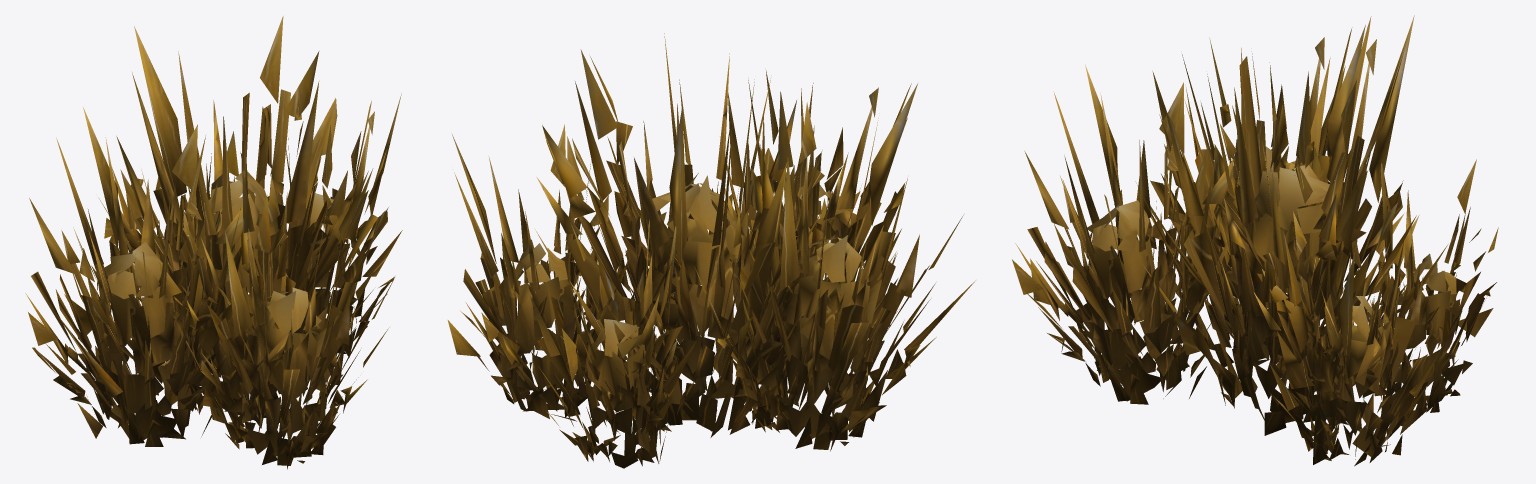
File: desert_grass_blades_bush_lod1.glb
The picture shows the model from 3 angles, left to right: view 1: azimuth 30°, elevation 25°; view 2: azimuth 150°, elevation 25°; view 3: azimuth 270°, elevation 25°; orthographic projection. The views are drawn at different scales.
Visible parts, largest first — view 1: desert_grass_blades_bush.001; view 2: desert_grass_blades_bush.001; view 3: desert_grass_blades_bush.001.
Boxes of the visible parts, <box> form: desert_grass_blades_bush.001: <box>25,16,402,469</box>; desert_grass_blades_bush.001: <box>447,33,975,468</box>; desert_grass_blades_bush.001: <box>1012,15,1498,466</box>.
Size of the model in its own units: 0.9435 by 0.809 by 0.9647.
1 material, 1 textured.
